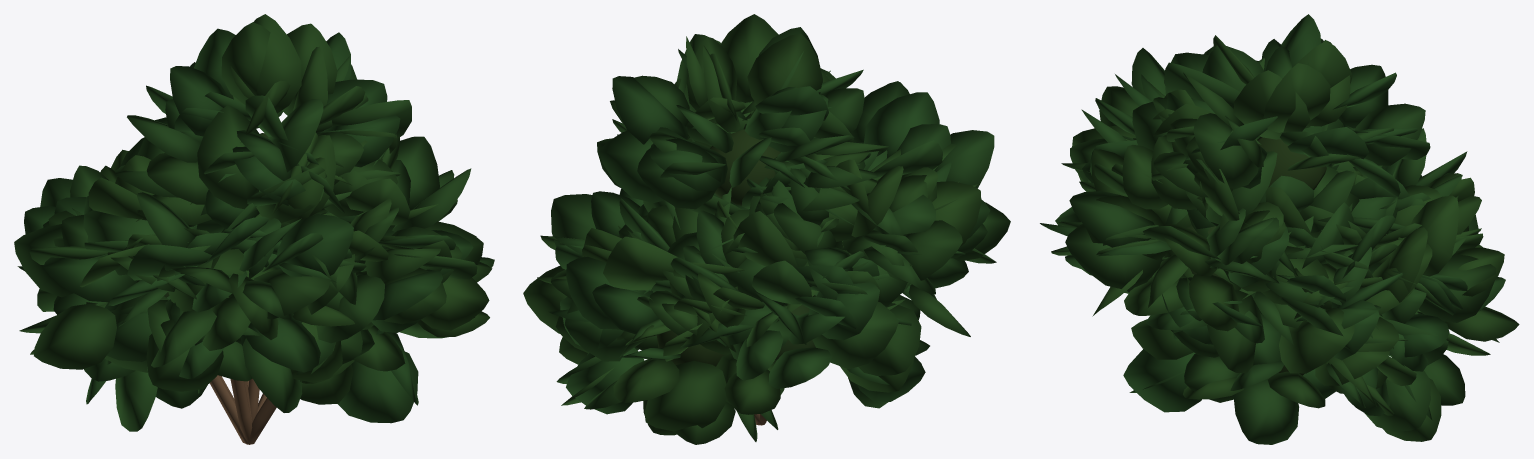
Rendered from potfill_bush_dark.glb.
3 views of the same model, side by side, from view 1: azimuth 30°, elevation 25°; view 2: azimuth 150°, elevation 25°; view 3: azimuth 270°, elevation 25° (orthographic). The views are drawn at different scales.
Parts seen in each view (by area): view 1: Sammel Pflanze, Sammel Holz; view 2: Sammel Pflanze, Sammel Blatt; view 3: Sammel Pflanze, Sammel Blatt.
Boxes of the visible parts, bbox=[...] form: Sammel Pflanze: bbox=[14, 14, 494, 431]; Sammel Holz: bbox=[209, 375, 276, 444]; Sammel Pflanze: bbox=[523, 14, 1010, 444]; Sammel Blatt: bbox=[657, 129, 815, 366]; Sammel Pflanze: bbox=[1040, 14, 1519, 444]; Sammel Blatt: bbox=[1186, 137, 1326, 375].
Bounding box in the file's own units: 0.5491 × 0.4984 × 0.5478.
